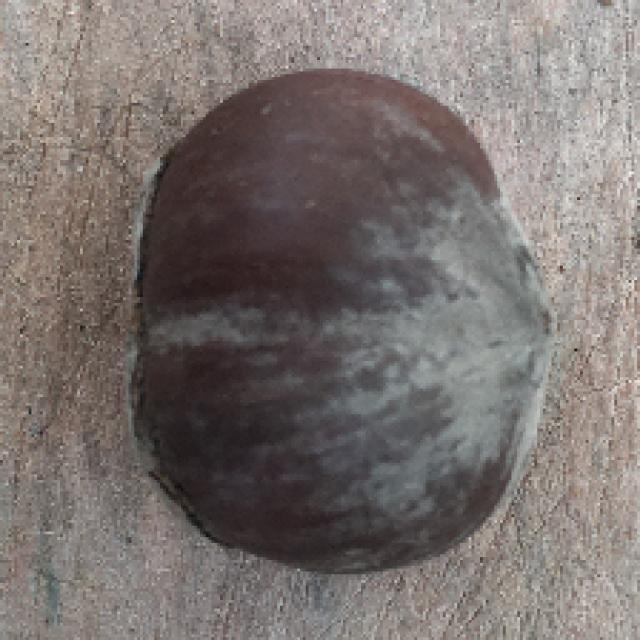damagedHazelnut: (115, 67, 560, 585)
